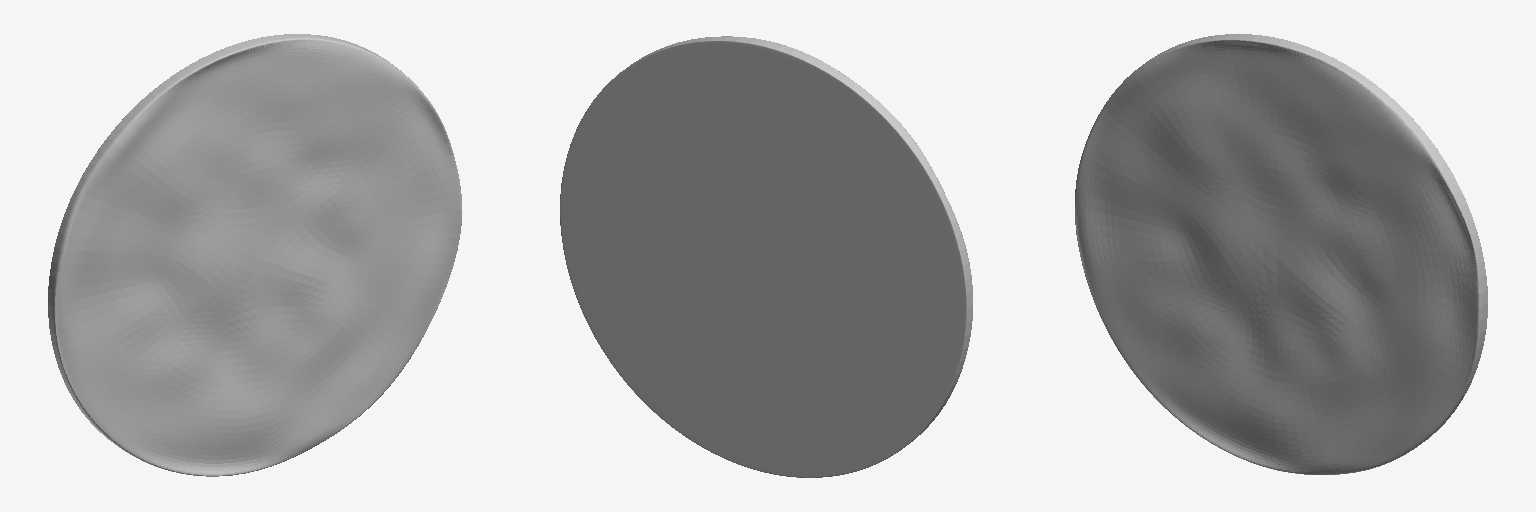
File: grass8.obj
The picture shows the model from 3 angles: view 1: azimuth 30°, elevation 25°; view 2: azimuth 150°, elevation 25°; view 3: azimuth 330°, elevation 25°; orthographic projection.
Parts seen in each view (by area): view 1: 10438_Circular_Grass_Patch_v1; view 2: 10438_Circular_Grass_Patch_v1; view 3: 10438_Circular_Grass_Patch_v1.
Part boxes in pixels (bbox=[...]): 10438_Circular_Grass_Patch_v1: bbox=[48, 34, 461, 476]; 10438_Circular_Grass_Patch_v1: bbox=[560, 36, 972, 477]; 10438_Circular_Grass_Patch_v1: bbox=[1075, 34, 1487, 474].
Size of the model in its own units: 287 by 287 by 11.54.